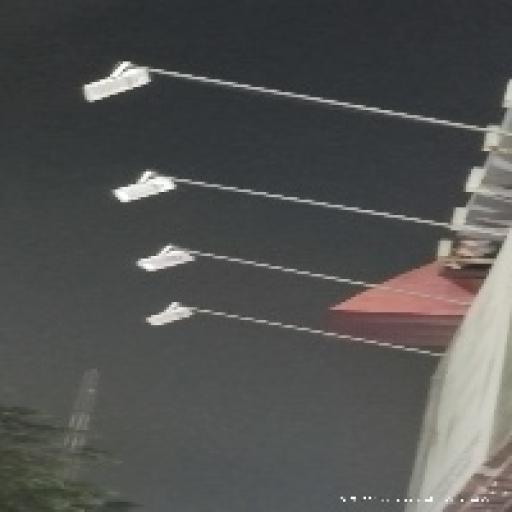Not Working: (67, 55, 169, 119), (107, 164, 185, 212), (133, 238, 201, 288), (141, 296, 199, 341)
